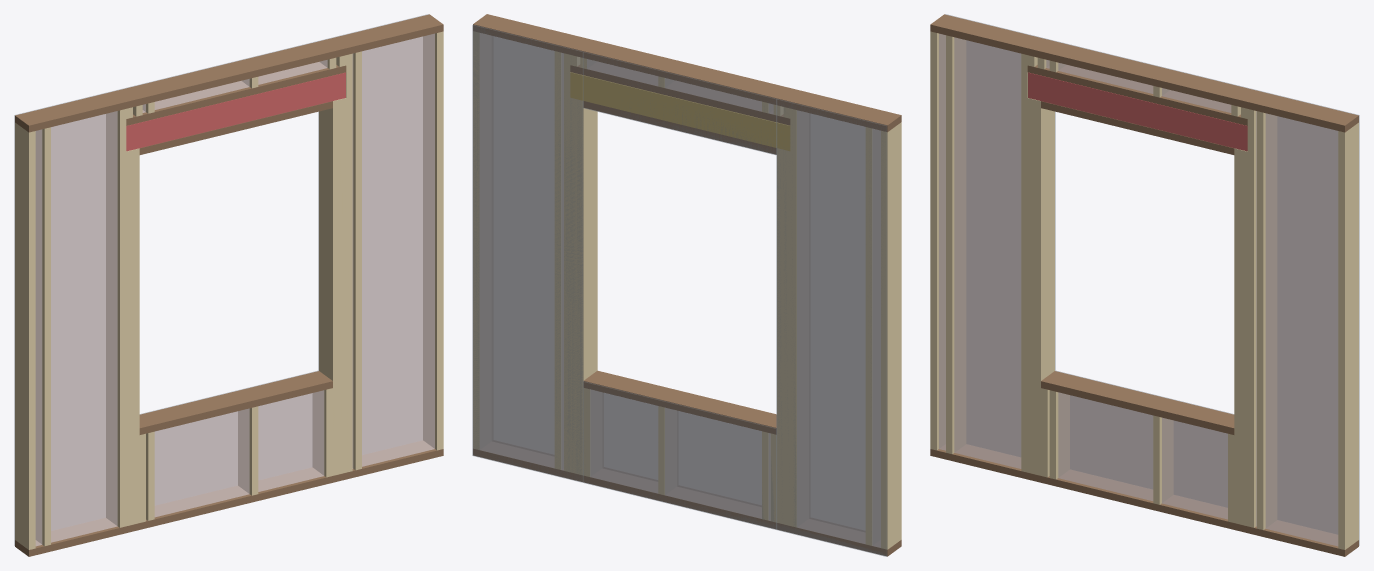
3 views of the same model, side by side, from view 1: azimuth 30°, elevation 25°; view 2: azimuth 150°, elevation 25°; view 3: azimuth 330°, elevation 25° (orthographic).
Parts seen in each view (by area): view 1: EX22 GF; view 2: EX22 GF; view 3: EX22 GF.
Part boxes in pixels (bbox=[...]): EX22 GF: bbox=[14, 14, 443, 556]; EX22 GF: bbox=[472, 14, 901, 556]; EX22 GF: bbox=[930, 14, 1359, 556].
Bounding box in the file's own units: 2.4 × 2.39 × 0.149.
